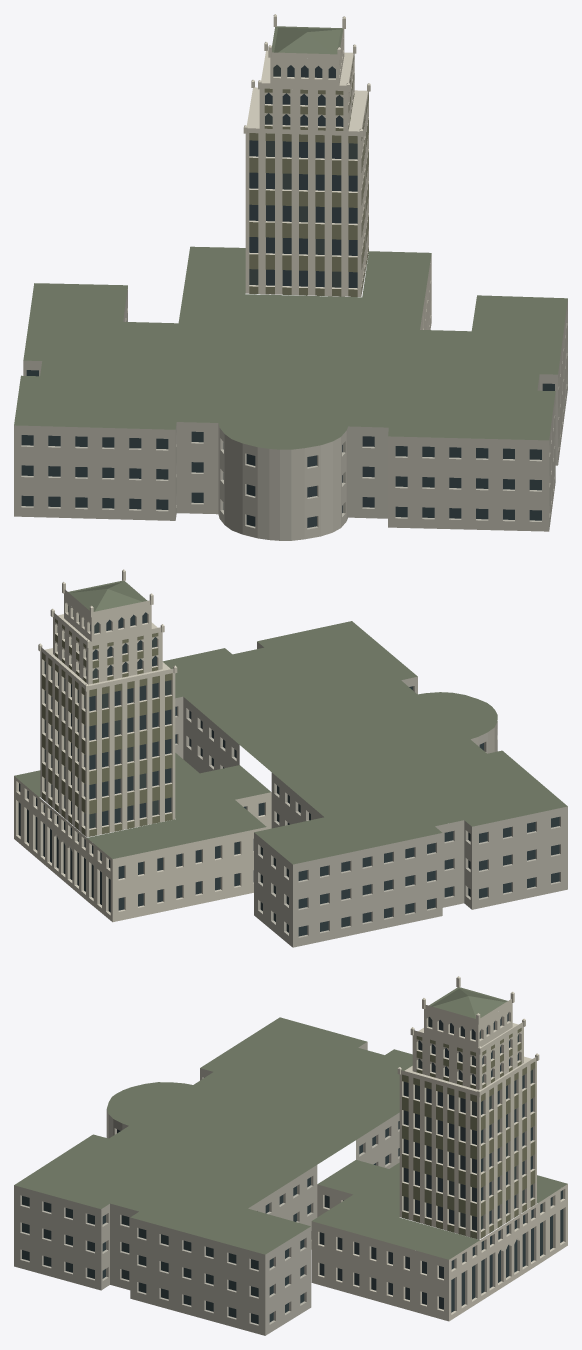
Rendered from atlanta-city-hall-far.glb.
3 renders of one model, top to bottom at view 1: azimuth 30°, elevation 25°; view 2: azimuth 150°, elevation 25°; view 3: azimuth 270°, elevation 25°, orthographic. The views are drawn at different scales.
Visible parts, largest first — view 1: atlanta-city-hall-0-roof, atlanta-city-hall-0-marble, atlanta-city-hall-0-stone, atlanta-city-hall-0-glass, atlanta-city-hall-0-spandrel, atlanta-city-hall-0-light; view 2: atlanta-city-hall-0-roof, atlanta-city-hall-0-stone, atlanta-city-hall-0-marble, atlanta-city-hall-0-glass, atlanta-city-hall-0-spandrel, atlanta-city-hall-0-light; view 3: atlanta-city-hall-0-roof, atlanta-city-hall-0-stone, atlanta-city-hall-0-marble, atlanta-city-hall-0-glass, atlanta-city-hall-0-spandrel, atlanta-city-hall-0-light.
Part boxes in pixels (x1=…): atlanta-city-hall-0-roof: x1=14, y1=26, x2=567, y2=449; atlanta-city-hall-0-marble: x1=14, y1=287, x2=567, y2=540; atlanta-city-hall-0-stone: x1=243, y1=14, x2=431, y2=329; atlanta-city-hall-0-glass: x1=21, y1=65, x2=554, y2=527; atlanta-city-hall-0-spandrel: x1=249, y1=56, x2=368, y2=296; atlanta-city-hall-0-light: x1=249, y1=65, x2=357, y2=287; atlanta-city-hall-0-roof: x1=14, y1=580, x2=567, y2=864; atlanta-city-hall-0-stone: x1=14, y1=569, x2=271, y2=922; atlanta-city-hall-0-marble: x1=175, y1=642, x2=567, y2=947; atlanta-city-hall-0-glass: x1=18, y1=610, x2=559, y2=936; atlanta-city-hall-0-spandrel: x1=42, y1=618, x2=172, y2=836; atlanta-city-hall-0-light: x1=44, y1=606, x2=171, y2=828; atlanta-city-hall-0-roof: x1=14, y1=987, x2=567, y2=1259; atlanta-city-hall-0-stone: x1=311, y1=976, x2=567, y2=1321; atlanta-city-hall-0-marble: x1=14, y1=1042, x2=399, y2=1335; atlanta-city-hall-0-glass: x1=22, y1=1013, x2=563, y2=1324; atlanta-city-hall-0-spandrel: x1=402, y1=1028, x2=535, y2=1238; atlanta-city-hall-0-light: x1=403, y1=1017, x2=532, y2=1229.
Size of the model in its own units: 122 by 66.6 by 120.
